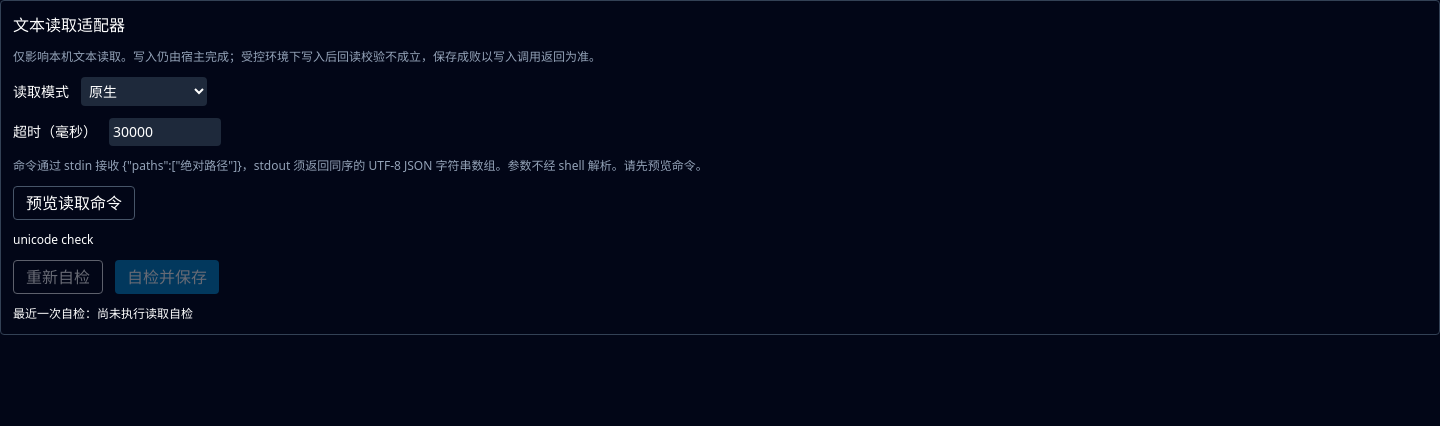
Test: renders new mode metadata without mode-specific UI and invalidates old preview
Click the button "预览读取命令": (74, 203) x1=13 y1=186 x2=135 y2=220
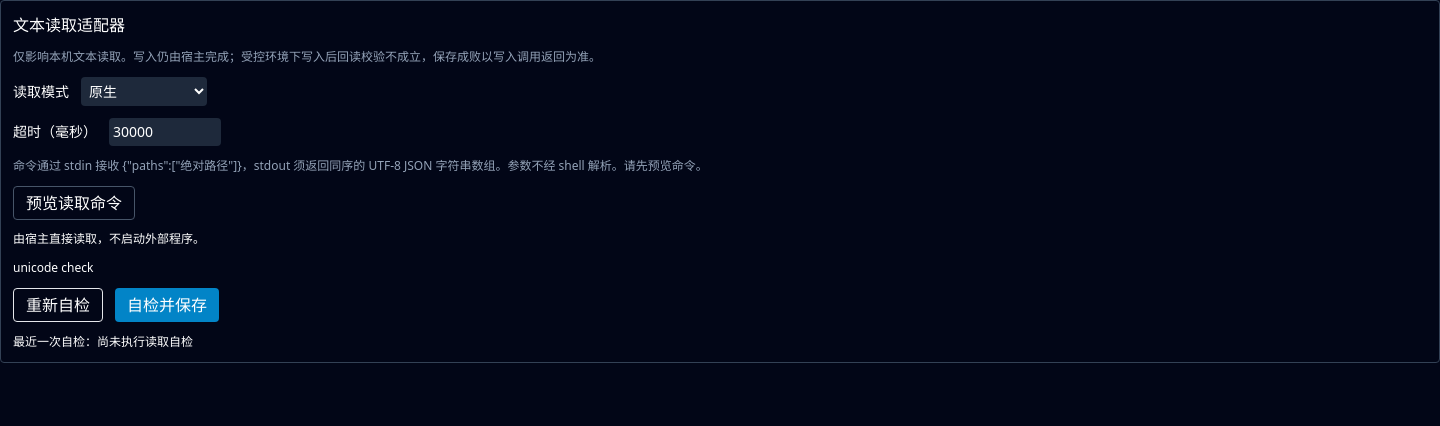
Select "注册表新增模式" in the dropdown labelled "读取模式": (144, 92) x1=81 y1=77 x2=207 y2=106
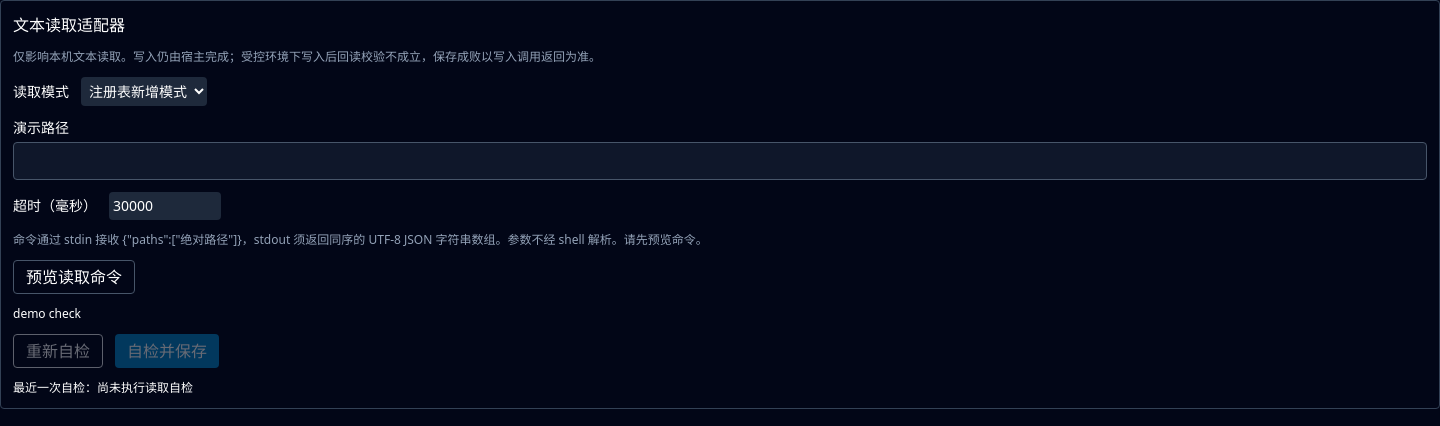
expect the text "演示路径" is shown: met, box x1=13 y1=118 x2=1427 y2=180
expect the text "demo check" is shown: met, box x1=13 y1=305 x2=81 y2=322
expect the button "重新自检" is disabled: met, box x1=13 y1=334 x2=103 y2=368
